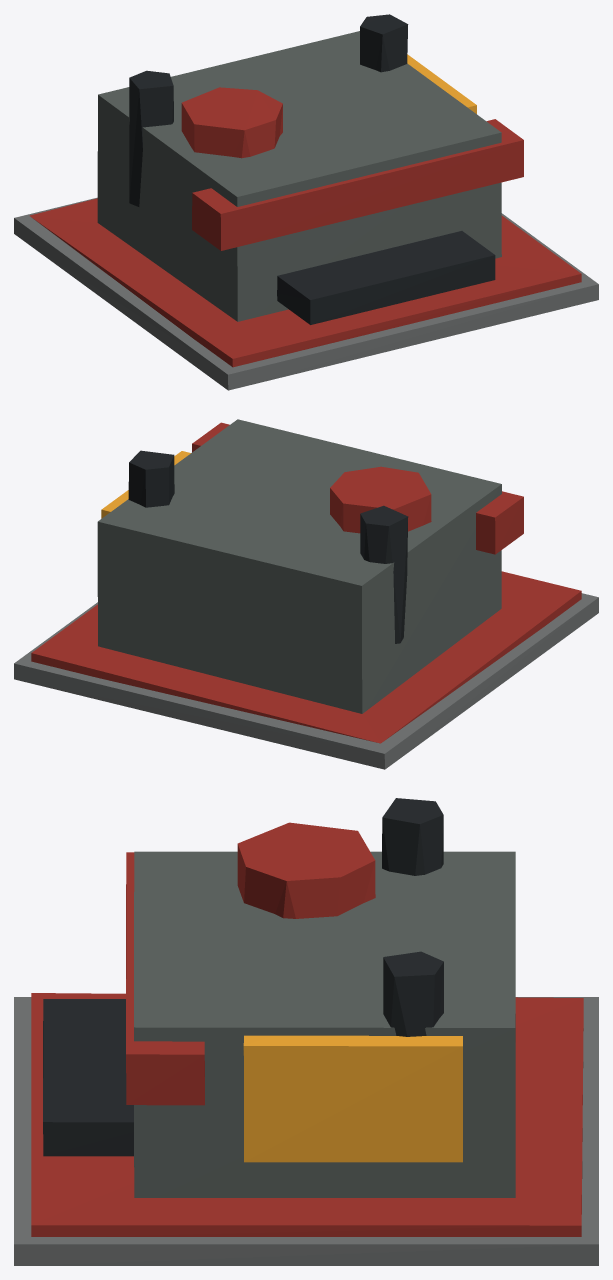
File: SM_Soviet_SU_Refinery_LOD3.fbx
The picture shows the model from 3 angles, top to bottom: view 1: azimuth 30°, elevation 25°; view 2: azimuth 150°, elevation 25°; view 3: azimuth 270°, elevation 25°; orthographic projection. The views are drawn at different scales.
Parts seen in each view (by area): view 1: LOD03_SM_Soviet_SU_Refinery; view 2: LOD03_SM_Soviet_SU_Refinery; view 3: LOD03_SM_Soviet_SU_Refinery.
Boxes of the visible parts, x1=… form: LOD03_SM_Soviet_SU_Refinery: x1=14, y1=14, x2=598, y2=390; LOD03_SM_Soviet_SU_Refinery: x1=14, y1=419, x2=598, y2=769; LOD03_SM_Soviet_SU_Refinery: x1=14, y1=798, x2=598, y2=1265.
Size of the model in its own units: 797 by 797 by 383.
